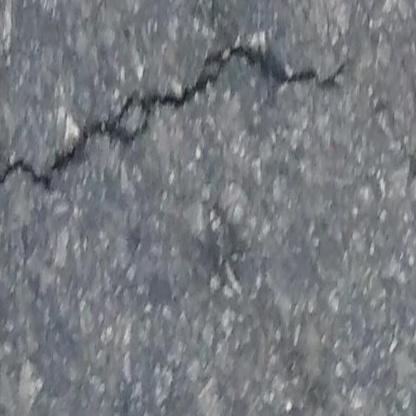Cracks: (0, 45, 337, 200)
